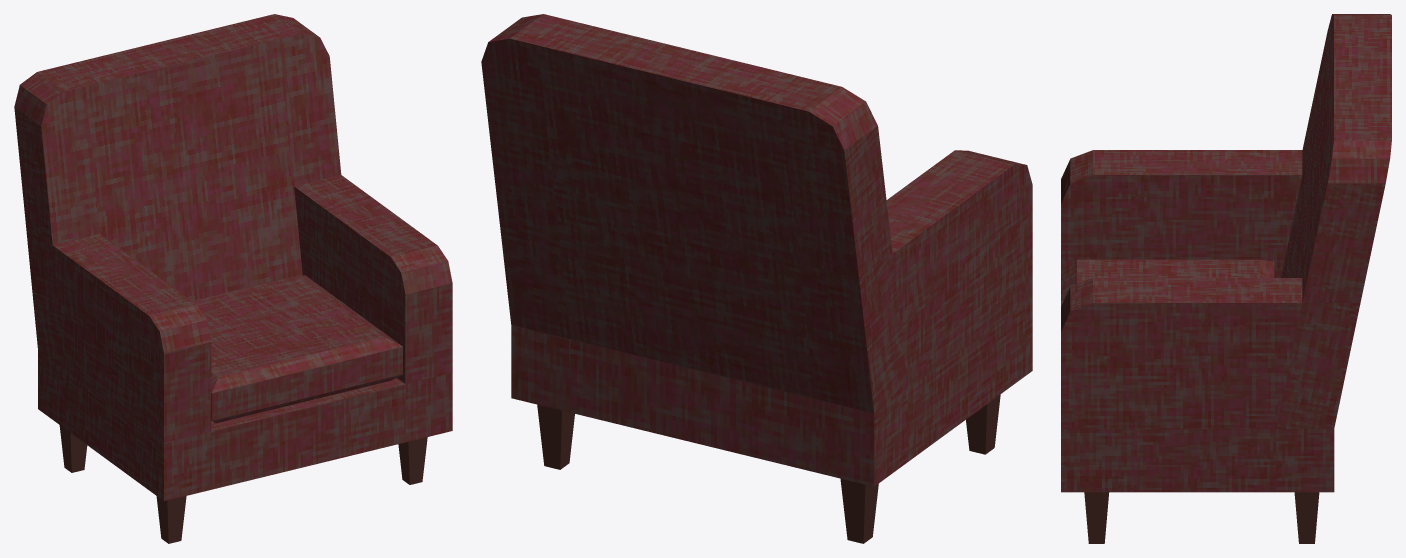
The model's file is armchair-pink.glb.
The picture shows the model from 3 angles, left to right: view 1: azimuth 30°, elevation 25°; view 2: azimuth 150°, elevation 25°; view 3: azimuth 270°, elevation 25°; orthographic projection. The views are drawn at different scales.
Parts seen in each view (by area): view 1: Armchair, Armchair.001; view 2: Armchair, Armchair.001; view 3: Armchair, Armchair.001.
Boxes of the visible parts, x1,y1,x2,y2 form: Armchair: (14, 14, 452, 501); Armchair.001: (59, 425, 427, 543); Armchair: (481, 14, 1032, 486); Armchair.001: (537, 394, 1000, 543); Armchair: (1061, 14, 1391, 492); Armchair.001: (1084, 492, 1319, 543).
Size of the model in its own units: 0.5881 by 0.7162 by 0.5384.
Materials: 2 (2 with a texture image).
